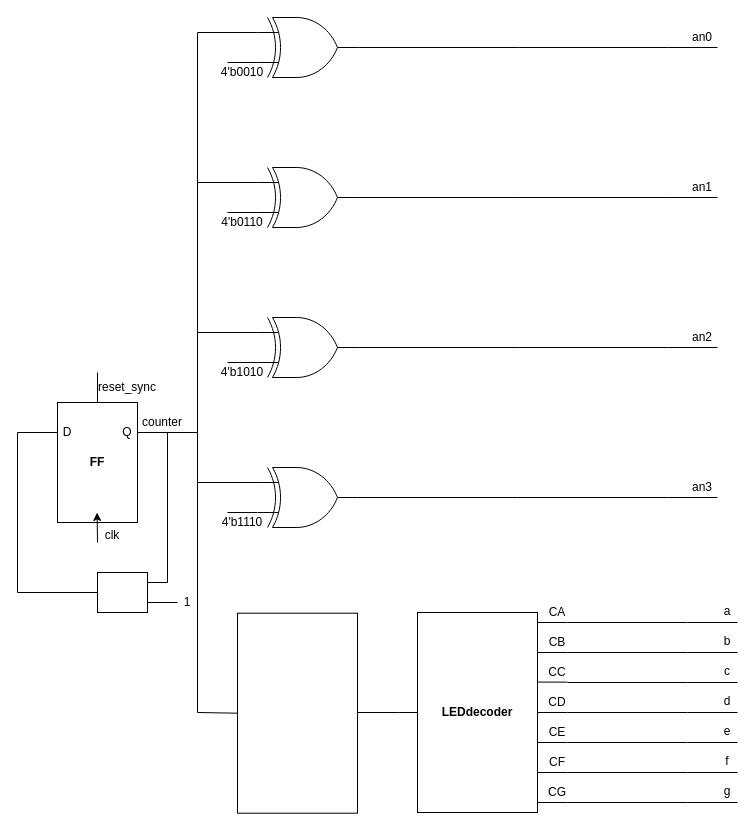
Some shapes in this 756 by 831 pixel diagram are drawn without their labels. The centre of each missing label's shape, as x and y in pixels:
"4-bit Adder" belongs at point (122, 592).
"Counter to character decoder" belongs at point (297, 712).
